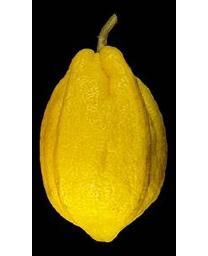lemon: (41, 46, 170, 242)
